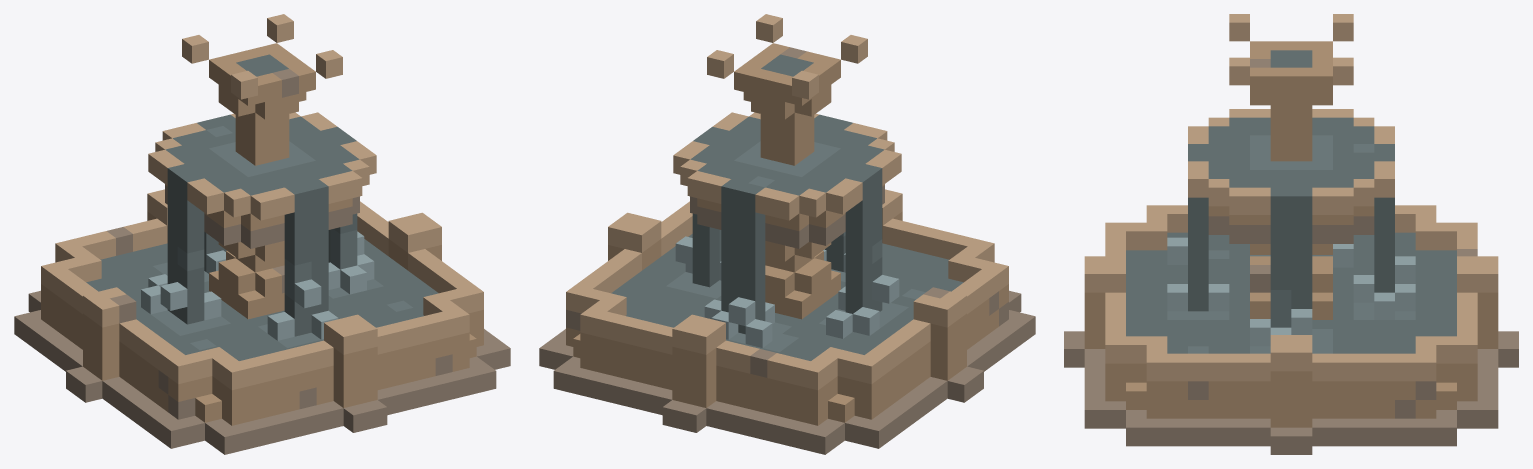
File: Corner Cafe-13.obj
3 views of the same model, side by side, from view 1: azimuth 30°, elevation 25°; view 2: azimuth 150°, elevation 25°; view 3: azimuth 270°, elevation 25° (orthographic). The views are drawn at different scales.
Size of the model in its own units: 2.2 by 1.7 by 2.2.
1 material, 1 textured.
